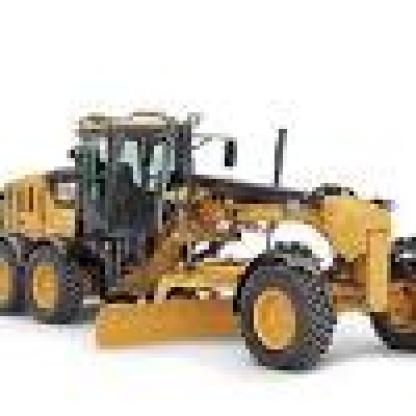bull_dozer/loader/grader: (4, 92, 412, 391)
